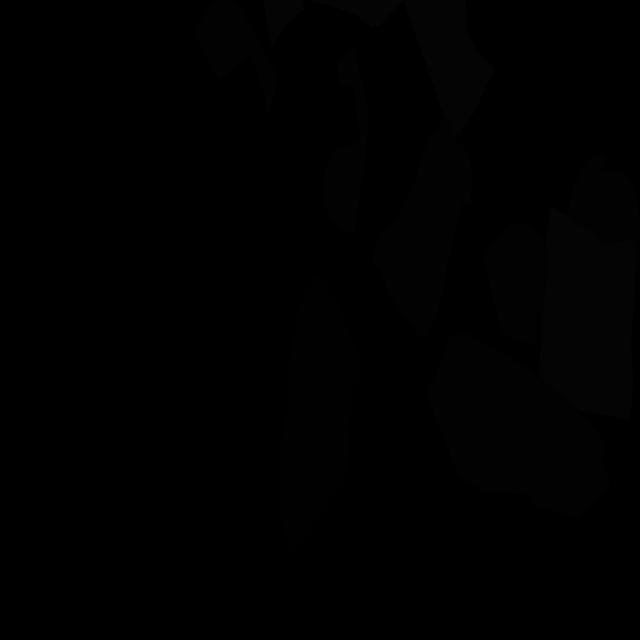cardboard: (424, 333, 610, 517), (372, 116, 472, 339), (193, 0, 278, 113), (567, 153, 640, 276), (324, 47, 369, 233), (484, 221, 548, 346)
rigid_plastic: (278, 274, 358, 557)
soft_plastic: (539, 205, 636, 420), (403, 0, 494, 135), (308, 0, 404, 28), (263, 0, 304, 47)
